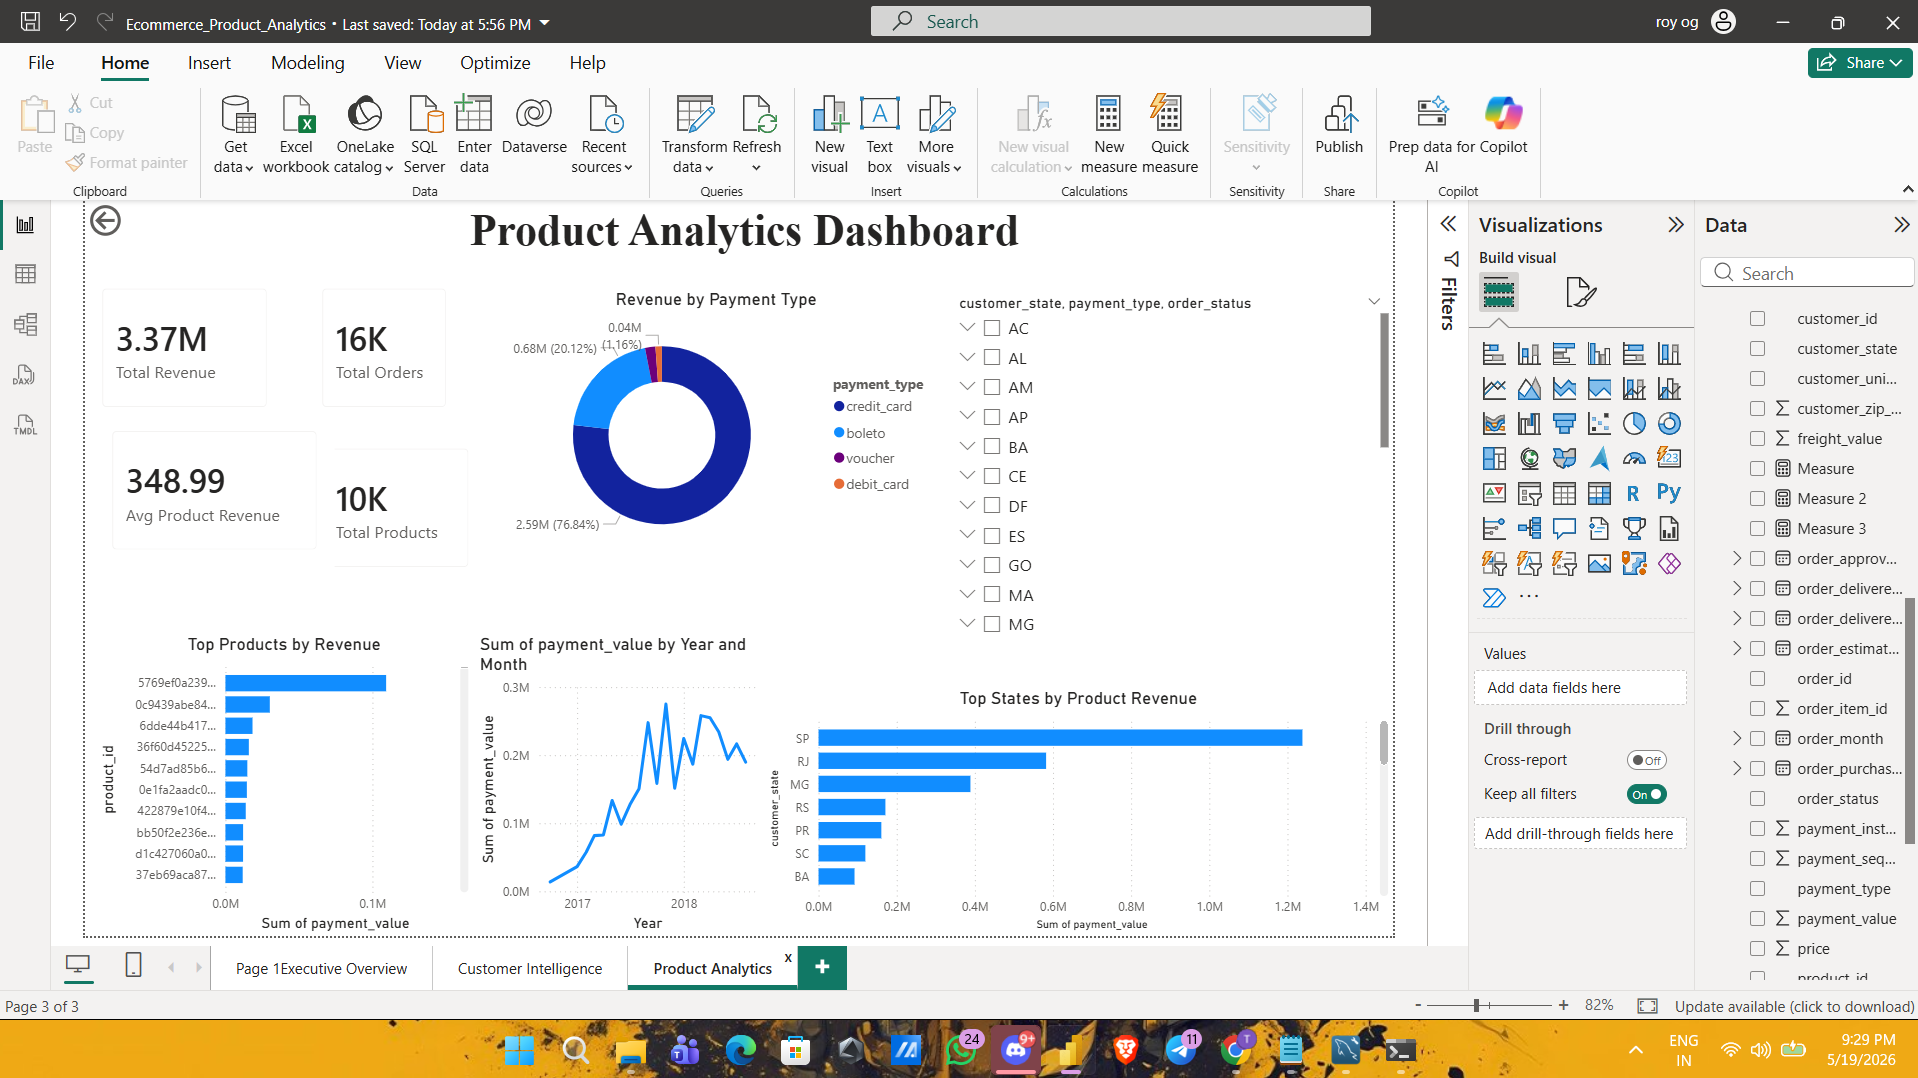

Layout of this report page (visuals, bound fields, positions):
{"tool":"powerbi","page":{"name":"Product Analytics","canvas":[1280,720],"ordinal":2},"visuals":[{"type":"textbox","box":[9.8,0,1270.5,69.7],"z":0},{"type":"cardVisual","fields":{"Data":["full_data.Total Revenue"]},"box":[0,69.7,195.7,150.4],"z":1},{"type":"cardVisual","fields":{"Data":["full_data.Total Orders"]},"box":[215.2,69.7,155.3,150.4],"z":2},{"type":"cardVisual","fields":{"Data":["cohort_retention.Total Products"]},"box":[215.2,226.2,177.3,150.4],"z":3},{"type":"cardVisual","fields":{"Data":["cohort_retention.Avg Product Revenue"]},"box":[9.8,209.1,234.8,150.4],"z":4},{"type":"clusteredBarChart","title":"Top Products by Revenue","fields":{"Y":["Sum(full_data.payment_value)"],"Category":["full_data.product_id"]},"box":[9.8,424.3,370.5,295.9],"z":5},{"type":"lineChart","fields":{"Y":["Sum(full_data.payment_value)"],"Category":["full_data.order_purchase_timestamp.Variation.Date Hierarchy.Year","full_data.order_purchase_timestamp.Variation.Date Hierarchy.Month"]},"box":[381,424,283,296],"z":6},{"type":"donutChart","title":"Revenue by Payment Type","fields":{"Category":["full_data.payment_type"],"Y":["Sum(full_data.payment_value)"]},"box":[392.5,86.8,450,267.8],"z":7},{"type":"clusteredBarChart","title":"Top States by Product Revenue","fields":{"Category":["full_data.customer_state"],"Y":["Sum(full_data.payment_value)"]},"box":[664,477,616,243],"z":8},{"type":"slicer","fields":{"Values":["full_data.customer_state","full_data.payment_type","full_data.order_status"]},"box":[842.5,86.8,437.8,349.7],"z":9},{"type":"actionButton","box":[0,0,100,40],"z":10}]}

Visuals, with their boxes on the page's 1280x720 design canvas (x1, y1, x2, y2). These are canvas units, not pixel positions in the 1918x1078 screenshot, which may show the page scaled, cropped or inside an application window:
textbox: [left=10, top=0, right=1280, bottom=70]
cardVisual - full_data.Total Revenue: [left=0, top=70, right=196, bottom=220]
cardVisual - full_data.Total Orders: [left=215, top=70, right=370, bottom=220]
cardVisual - cohort_retention.Total Products: [left=215, top=226, right=392, bottom=377]
cardVisual - cohort_retention.Avg Product Revenue: [left=10, top=209, right=245, bottom=360]
"Top Products by Revenue" clusteredBarChart: [left=10, top=424, right=380, bottom=720]
lineChart - Sum(full_data.payment_value) x full_data.order_purchase_timestamp.Variation.Date Hierarchy.Year: [left=381, top=424, right=664, bottom=720]
"Revenue by Payment Type" donutChart: [left=392, top=87, right=842, bottom=355]
"Top States by Product Revenue" clusteredBarChart: [left=664, top=477, right=1280, bottom=720]
slicer - full_data.customer_state x full_data.payment_type: [left=842, top=87, right=1280, bottom=436]
actionButton: [left=0, top=0, right=100, bottom=40]
